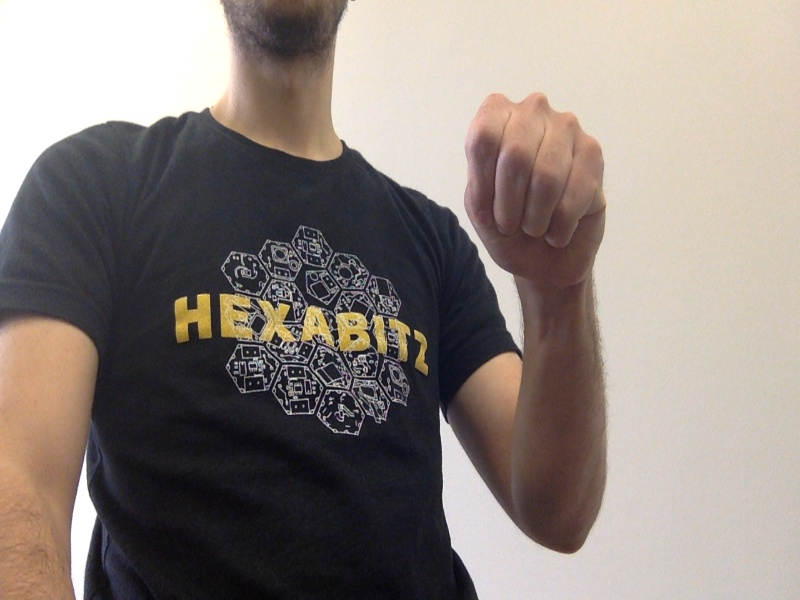0-hand: (467, 93, 608, 296)
